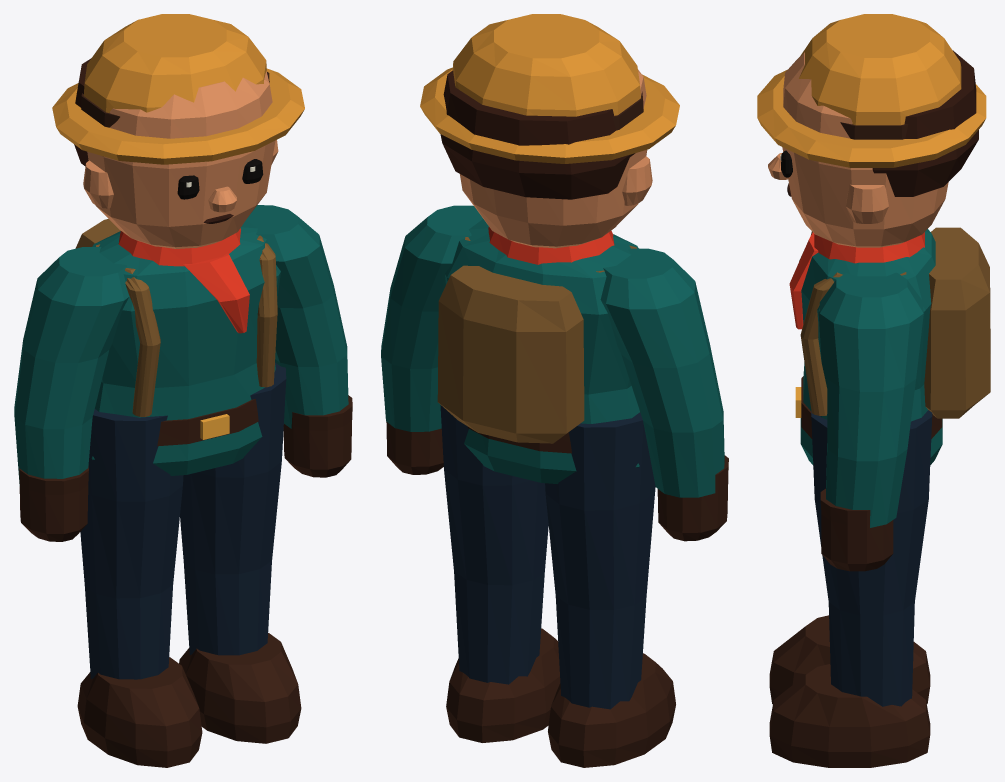
File: Adventurer.obj
The picture shows the model from 3 angles, left to right: view 1: azimuth 30°, elevation 25°; view 2: azimuth 150°, elevation 25°; view 3: azimuth 270°, elevation 25°; orthographic projection. The views are drawn at different scales.
Parts seen in each view (by area): view 1: Leg-1, Field_jacket, Leg1, Sleeve-1, Head, Hat, Sleeve1, Boot-1, Boot1, Hat_brim, Glove-1, Glove1 (+9 smaller); view 2: Leg-1, Rucksack, Leg1, Sleeve-1, Hat, Field_jacket, Sleeve1, Hair, Boot-1, Head, Boot1, Hat_brim (+5 smaller); view 3: Sleeve1, Leg1, Hat, Boot1, Rucksack, Head, Hat_brim, Field_jacket, Hair, Glove1, Boot-1, Strap1 (+5 smaller).
Part boxes in pixels (left/top/right/bottom): Leg-1: left=80, top=409, right=183, bottom=679; Field_jacket: left=91, top=220, right=280, bottom=475; Leg1: left=180, top=362, right=286, bottom=655; Sleeve-1: left=14, top=247, right=129, bottom=485; Head: left=87, top=71, right=275, bottom=248; Hat: left=83, top=14, right=266, bottom=112; Sleeve1: left=246, top=205, right=348, bottom=428; Boot-1: left=77, top=657, right=202, bottom=767; Boot1: left=179, top=633, right=301, bottom=743; Hat_brim: left=52, top=68, right=304, bottom=164; Glove-1: left=19, top=466, right=88, bottom=541; Glove1: left=283, top=395, right=352, bottom=477; Leg-1: left=545, top=412, right=655, bottom=709; Rucksack: left=437, top=265, right=584, bottom=443; Leg1: left=440, top=405, right=548, bottom=684; Sleeve-1: left=600, top=248, right=724, bottom=497; Hat: left=452, top=14, right=640, bottom=116; Field_jacket: left=445, top=219, right=639, bottom=483; Sleeve1: left=381, top=205, right=482, bottom=431; Hair: left=440, top=70, right=635, bottom=199; Boot-1: left=548, top=653, right=675, bottom=767; Head: left=460, top=69, right=647, bottom=248; Boot1: left=446, top=628, right=560, bottom=742; Hat_brim: left=420, top=67, right=679, bottom=163; Sleeve1: left=819, top=272, right=923, bottom=527; Leg1: left=811, top=410, right=932, bottom=706; Hat: left=799, top=14, right=961, bottom=125; Boot1: left=769, top=664, right=930, bottom=767; Rucksack: left=924, top=227, right=990, bottom=418; Head: left=782, top=52, right=948, bottom=247; Hat_brim: left=757, top=69, right=986, bottom=167; Field_jacket: left=799, top=229, right=942, bottom=465; Hair: left=872, top=50, right=978, bottom=196; Glove1: left=820, top=488, right=893, bottom=571; Boot-1: left=769, top=615, right=930, bottom=704; Strap1: left=800, top=272, right=906, bottom=415.
Bounding box in the file's own units: 0.8624 × 1.73 × 0.5339.
